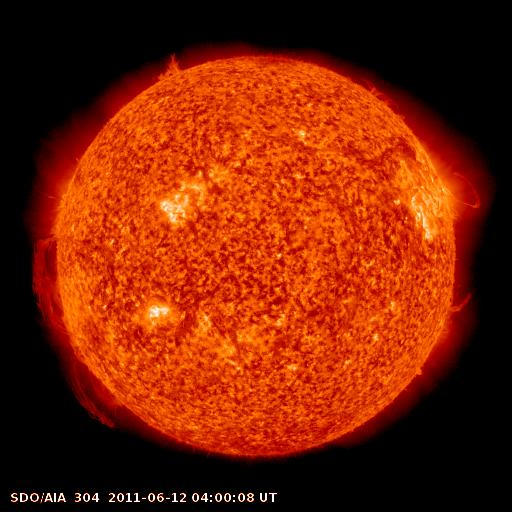prominence: (14, 237, 135, 431), (353, 75, 415, 124), (151, 47, 195, 93), (430, 285, 482, 320)
